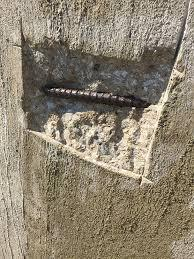exposed_rebar: (45, 88, 148, 107)
spalling: (20, 36, 182, 185)
